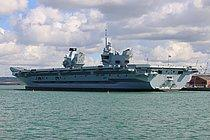MIL_Ship: (10, 33, 200, 93)
